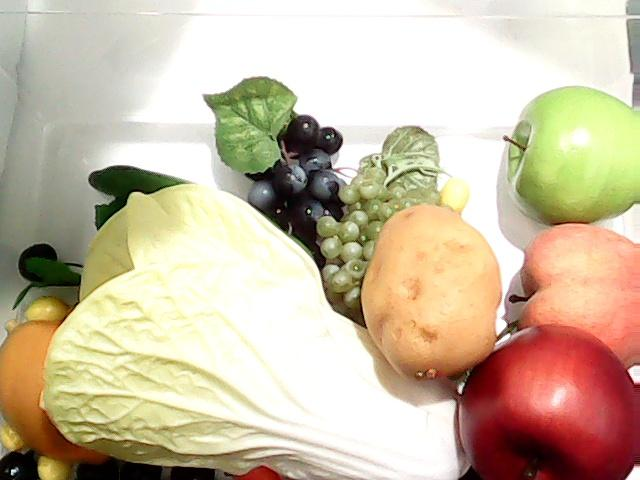apple: (466, 332, 638, 472), (502, 76, 638, 228)
carrot: (226, 456, 290, 480)
grape: (315, 157, 435, 327), (236, 111, 348, 267)
lemon: (0, 319, 100, 459)
napa cabbage: (36, 191, 490, 480)
peach: (508, 221, 640, 372)
pepper: (51, 155, 326, 255)
potato: (359, 205, 503, 383)
